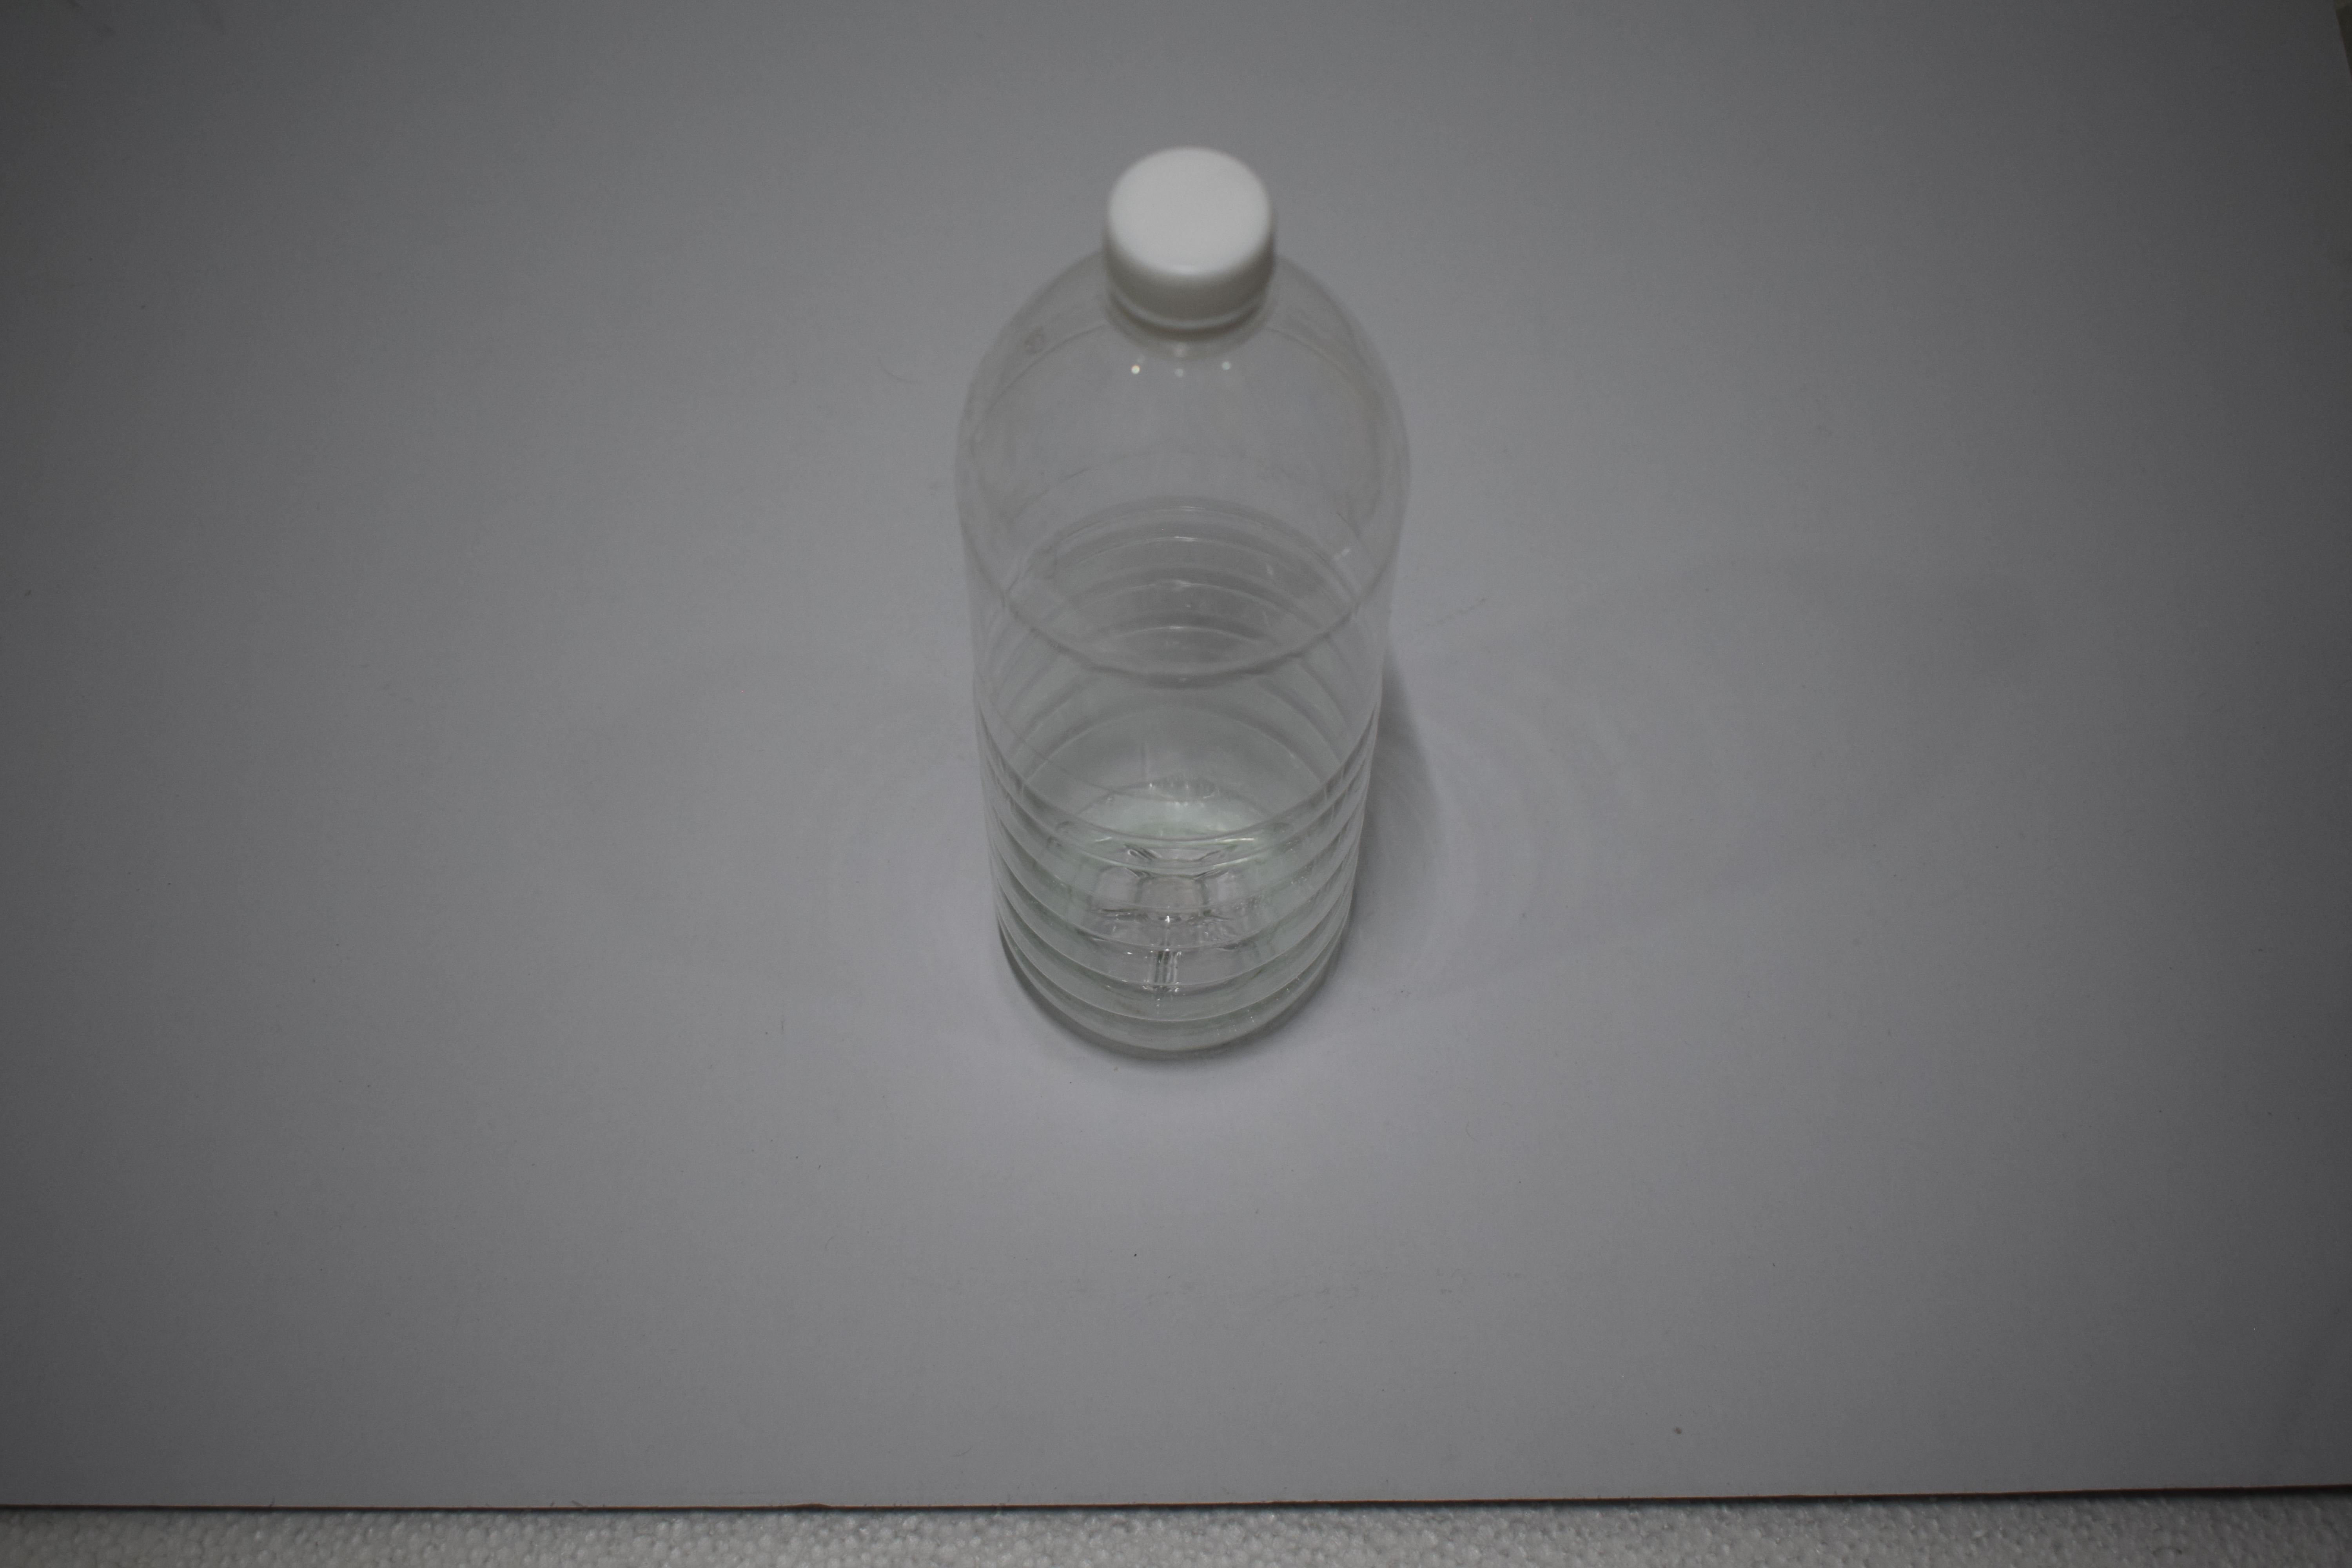bottle: (0, 530, 228, 674)
